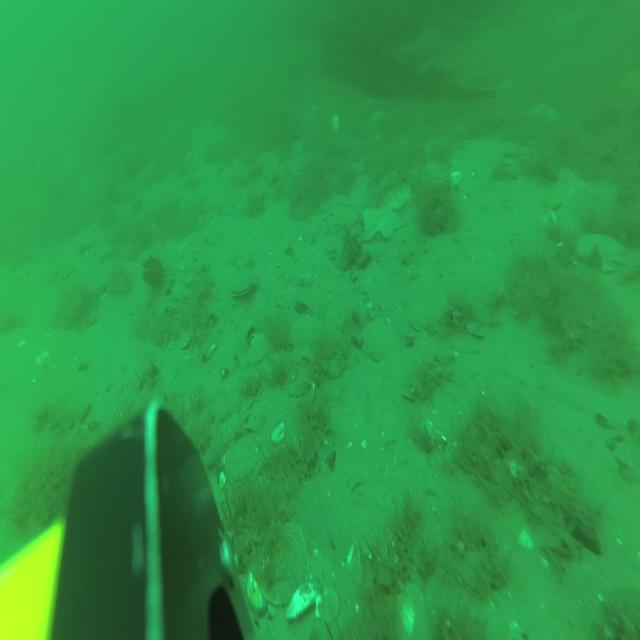scallop: (262, 521, 308, 607), (576, 231, 630, 275), (224, 434, 263, 488), (316, 588, 341, 626), (384, 180, 413, 210), (230, 268, 258, 296), (421, 160, 449, 188), (369, 107, 383, 121), (331, 111, 340, 132)
starfish: (360, 204, 402, 242)
